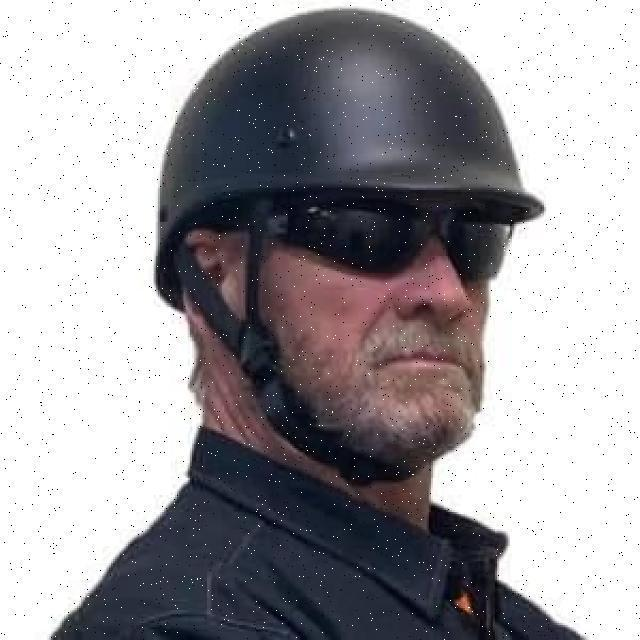helmet: (152, 12, 546, 492)
